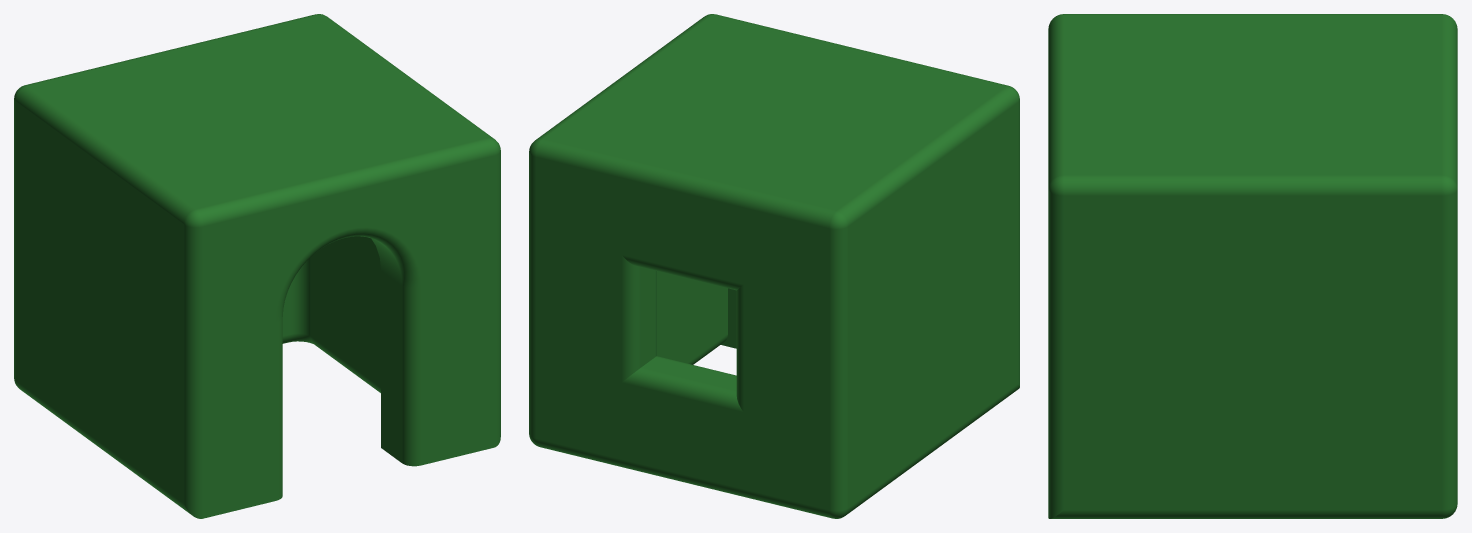
File: bunker_test.dae
3 renders of one model, left to right at view 1: azimuth 30°, elevation 25°; view 2: azimuth 150°, elevation 25°; view 3: azimuth 270°, elevation 25°, orthographic. The views are drawn at different scales.
Visible parts, largest first — view 1: Mtl; view 2: Mtl; view 3: Mtl.
Boxes of the visible parts, box(x1,y1,x2,y2) form: Mtl: box(14, 14, 500, 518); Mtl: box(529, 14, 1019, 518); Mtl: box(1048, 14, 1457, 518).
Bounding box in the file's own units: 1.98 × 1.98 × 1.83.
